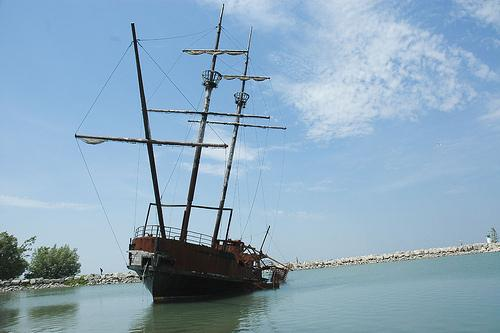Ship: (76, 4, 293, 303)
